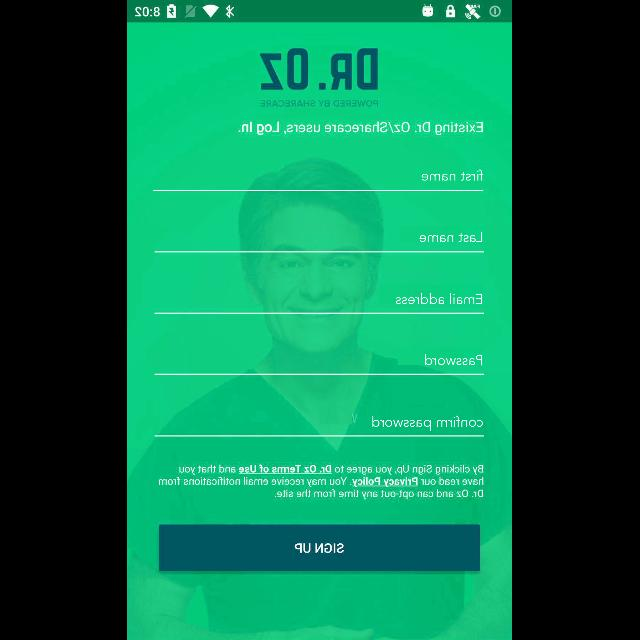backgroundimage: (128, 22, 512, 640)
input: (154, 170, 484, 192), (156, 292, 484, 314), (156, 354, 484, 376), (155, 416, 485, 436), (156, 232, 484, 252)
text: (160, 464, 484, 500), (260, 48, 380, 90), (284, 122, 483, 136), (373, 416, 483, 430), (261, 100, 379, 108), (397, 294, 483, 304), (422, 170, 483, 182), (426, 354, 482, 366), (421, 232, 483, 242), (240, 122, 280, 136)
textbutton: (159, 524, 481, 572)
uppertaskbar: (128, 1, 512, 23)
